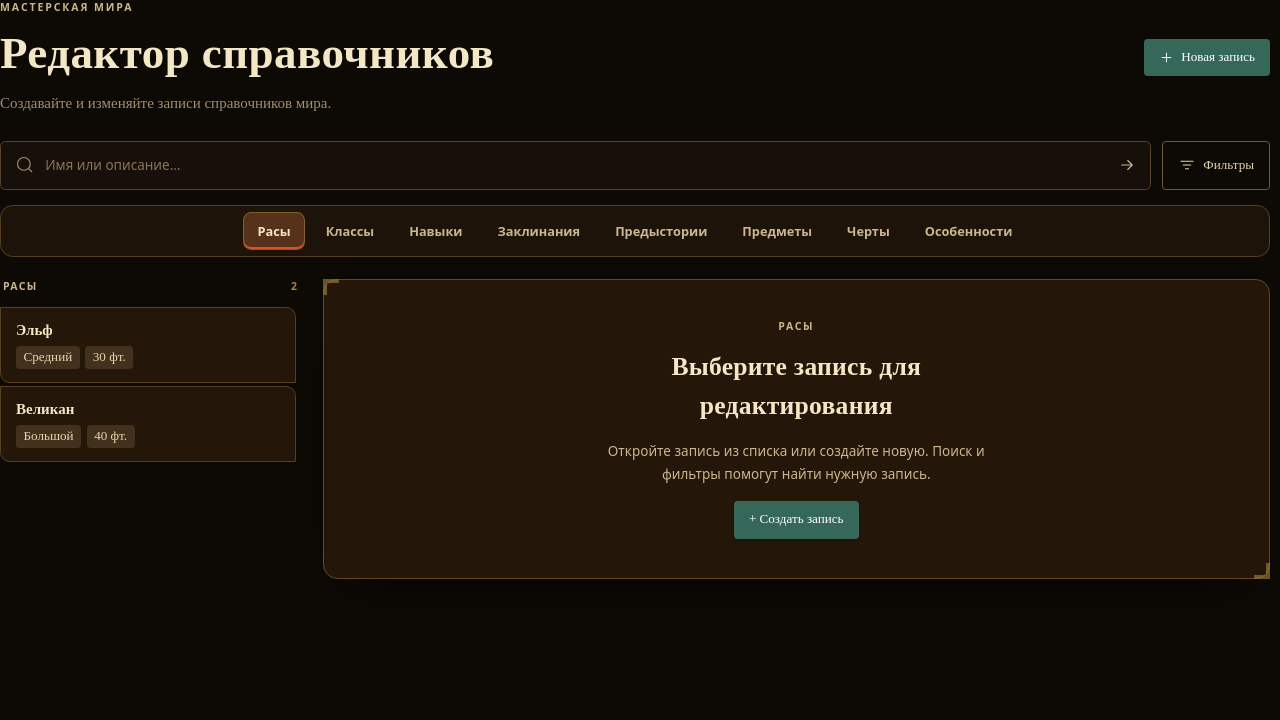
GmEditorPage › removes an applied filter directly from the results
This screenshot has width=1280, height=720.
Expected: the button "Эльф Средний 30 фт." is shown, 0,307 -> 296,383
Click the button with aria-label "Открыть фильтры": coordinates (1216, 165) 1162,141 -> 1270,190
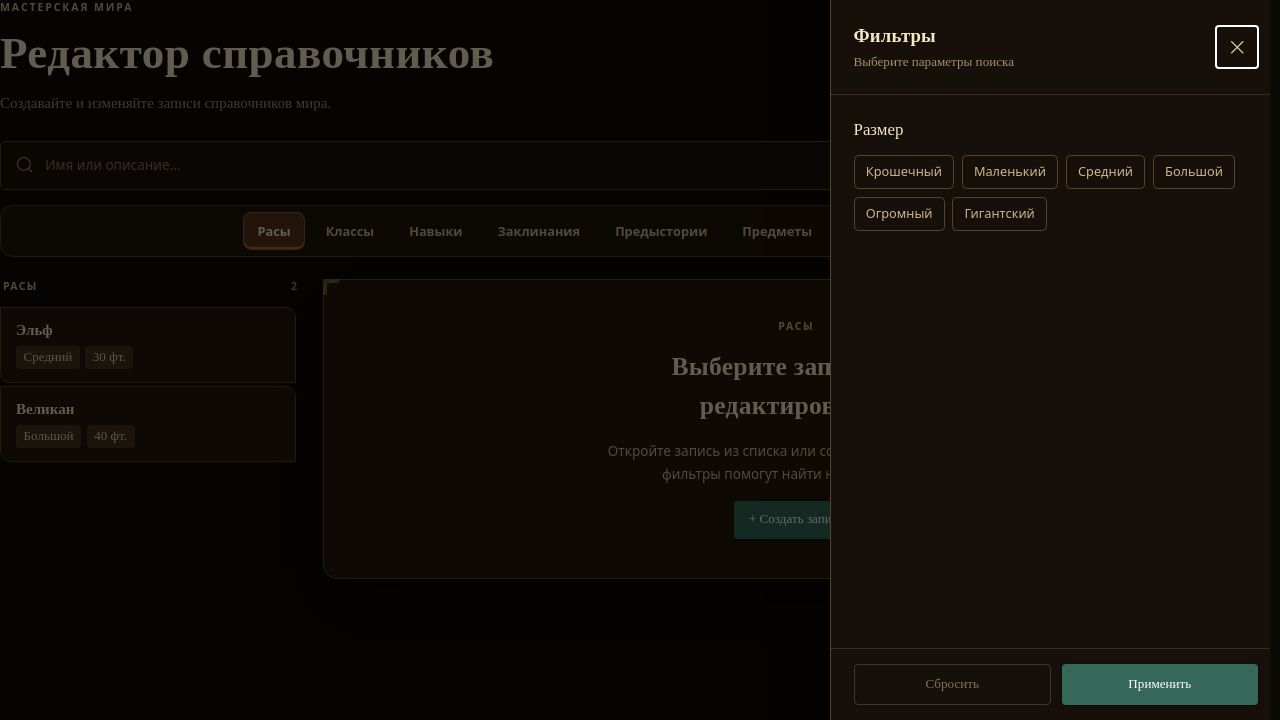
Click the button "Большой": coordinates (1194, 172) 1153,155 -> 1235,189
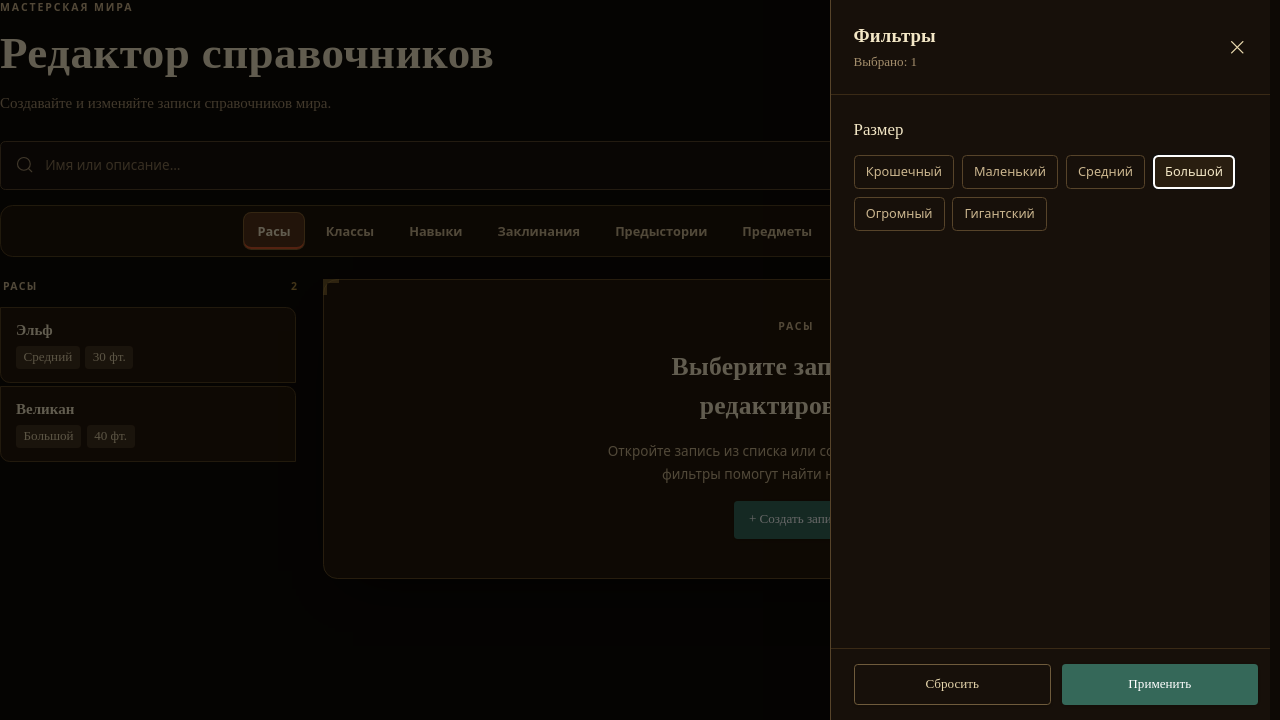
Click the button "Применить": coordinates (1160, 684) 1062,664 -> 1258,705
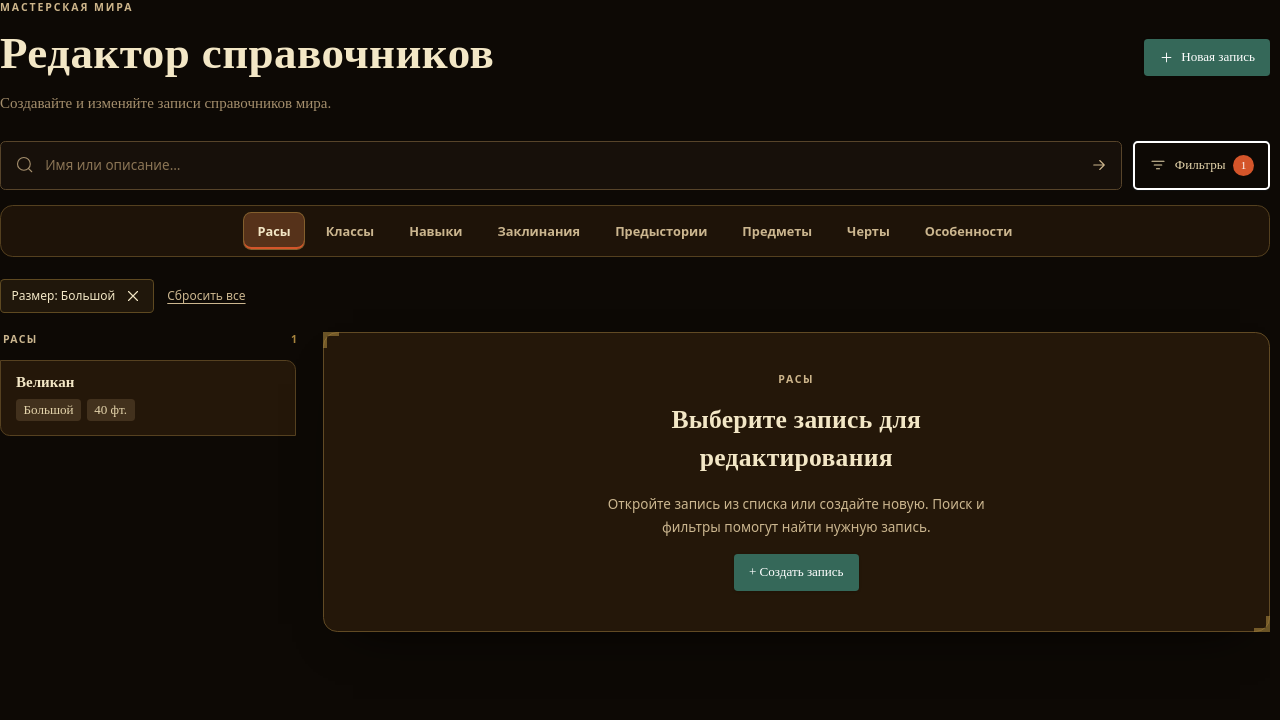
Result: the button "Эльф" is gone
Click the button with aria-label "Убрать фильтр Размер: Большой": coordinates (77, 296) 0,279 -> 154,313
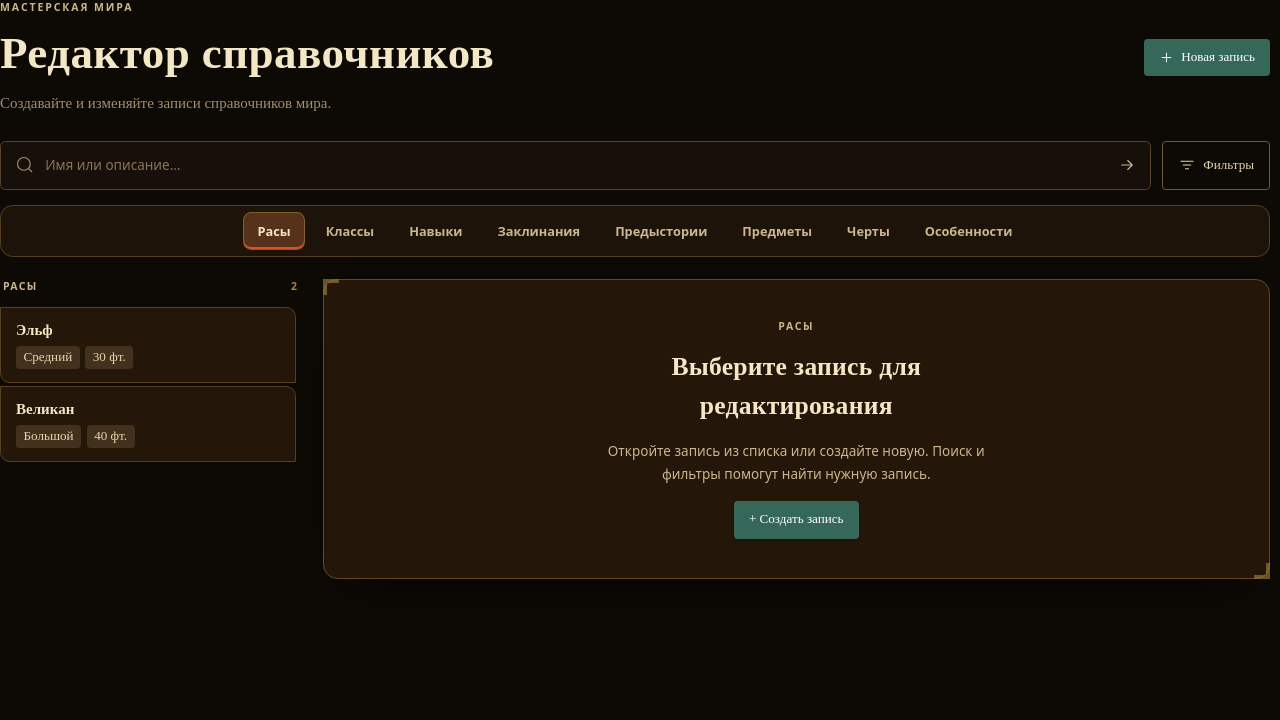
Expected: the button "Великан Большой 40 фт." is shown, 0,386 -> 296,462
Result: the button "Эльф Средний 30 фт." is shown at 0,307 -> 296,383
Result: the button "Сбросить все" is gone
